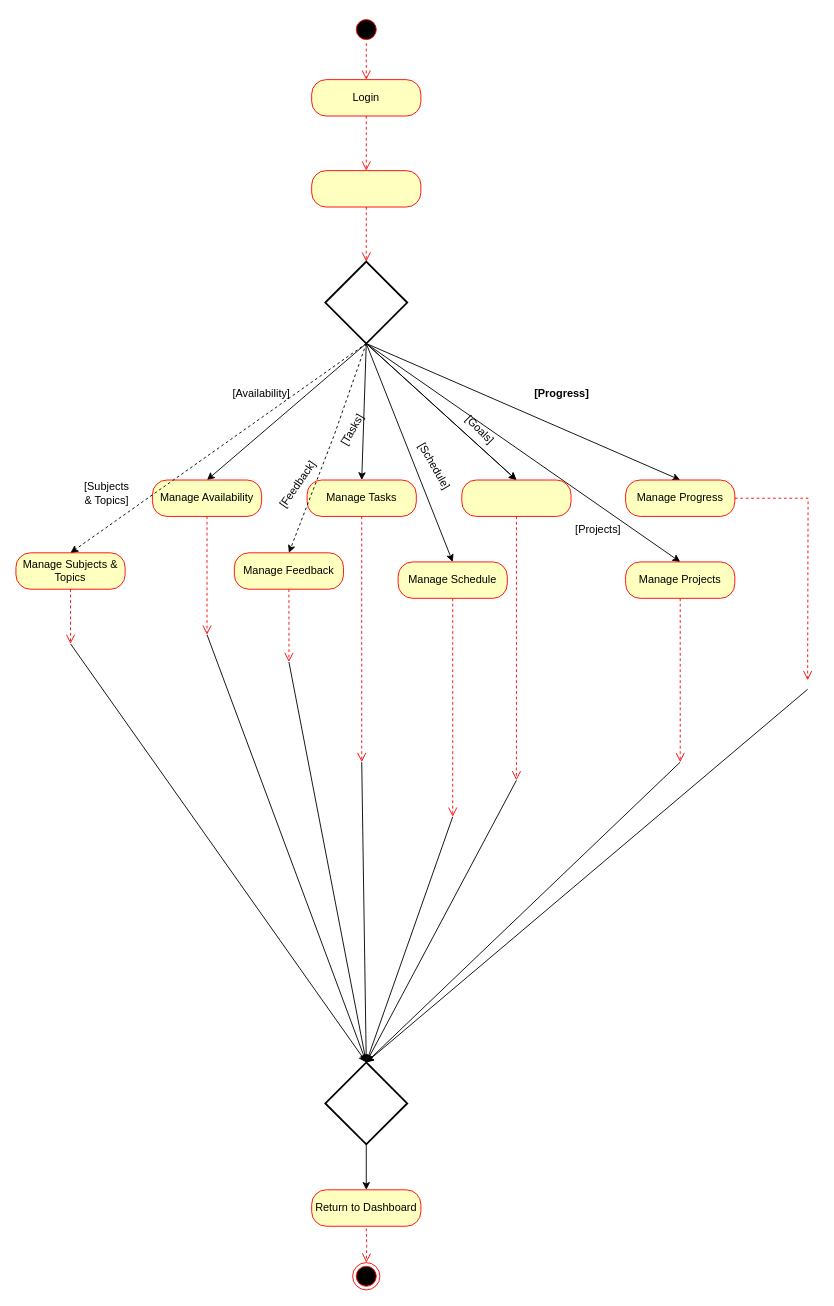
Some shapes in this 834 by 1306 pixel diagram are drawn without their labels. Here are the shapes that lost their labels. From the top down, the centre of each, then its label:
the point at 366,188: View Dashboard
the point at 516,497: Manage Goals
